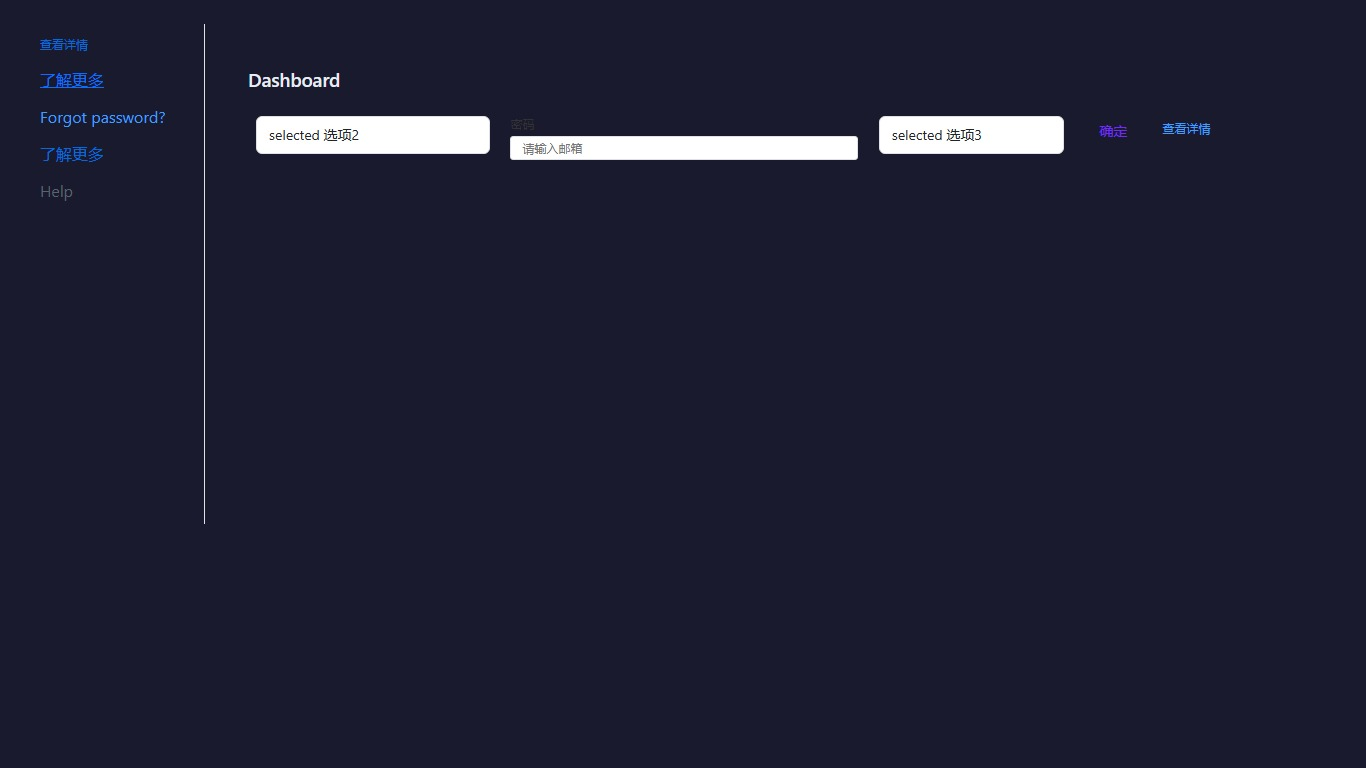button: (1084, 116, 1142, 146)
input: (510, 136, 858, 160)
link: (40, 106, 166, 127), (40, 69, 104, 90), (40, 143, 104, 164), (40, 36, 88, 52), (1163, 120, 1211, 136), (40, 180, 73, 201)
select: (256, 116, 490, 154), (879, 116, 1064, 154)
